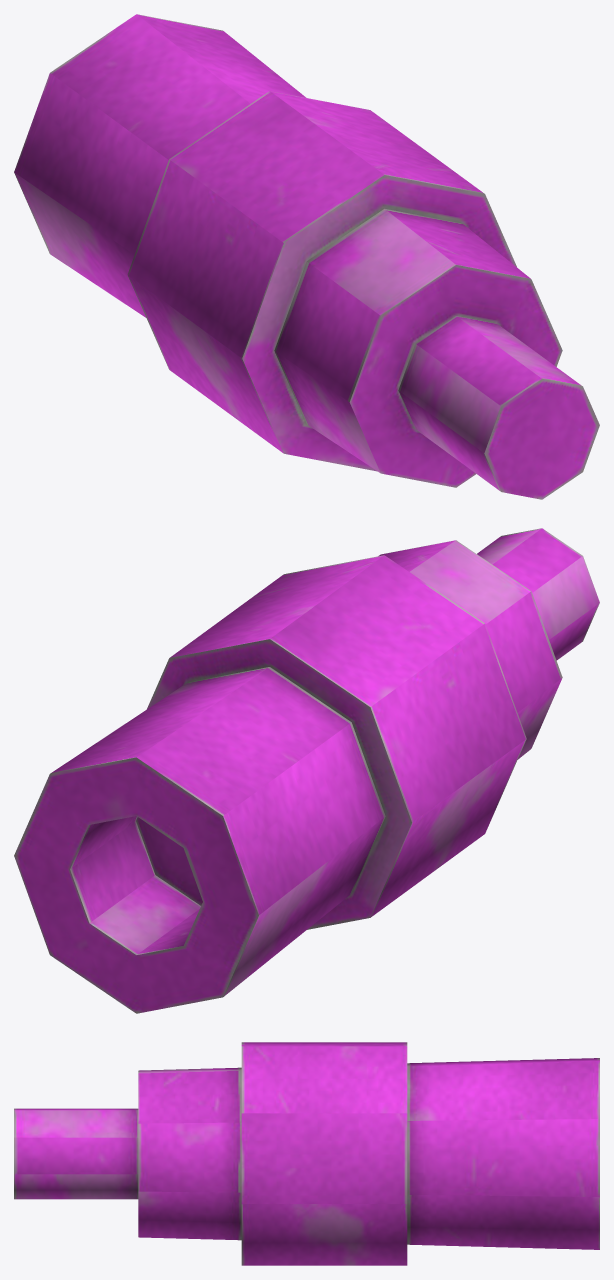
The model's file is silencer-larger.glb.
The picture shows the model from 3 angles, top to bottom: view 1: azimuth 30°, elevation 25°; view 2: azimuth 150°, elevation 25°; view 3: azimuth 270°, elevation 25°; orthographic projection. The views are drawn at different scales.
Parts seen in each view (by area): view 1: silencer-larger; view 2: silencer-larger; view 3: silencer-larger.
Boxes of the visible parts, x1,y1,x2,y2 form: silencer-larger: (14, 14, 599, 499); silencer-larger: (14, 528, 599, 1013); silencer-larger: (14, 1042, 599, 1265).
Bounding box in the file's own units: 0.1146 × 0.1146 × 0.283.
Materials: 1 (1 with a texture image).
